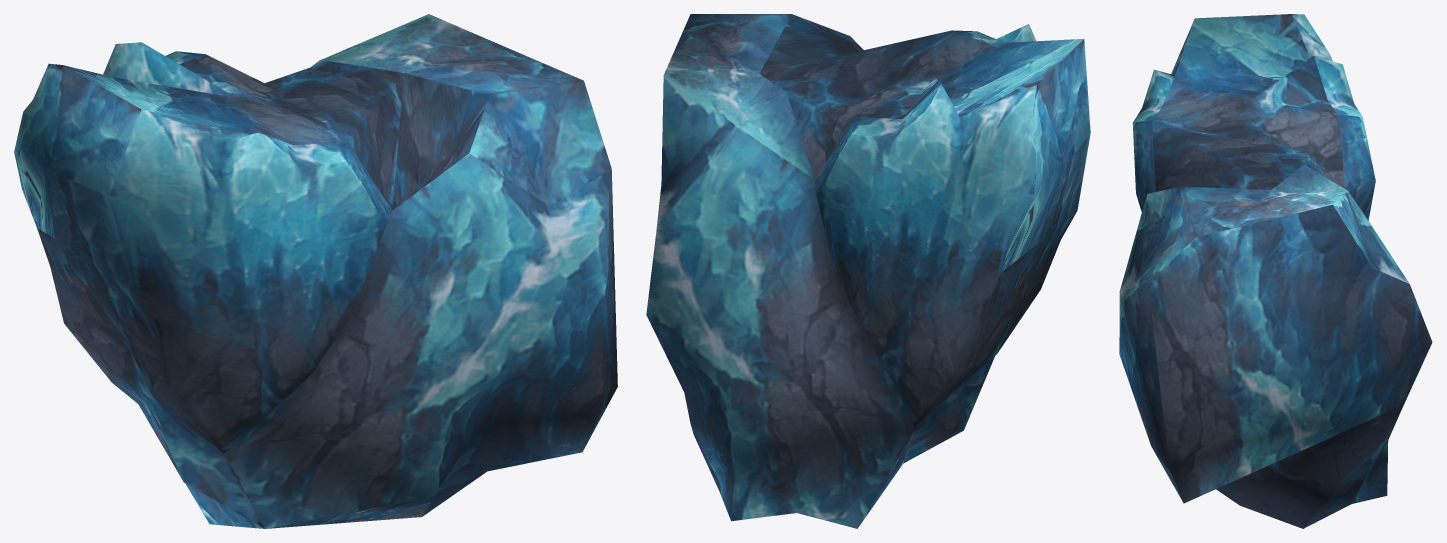
Rendered from bs_binshan_24.FBX.
The picture shows the model from 3 angles, left to right: view 1: azimuth 30°, elevation 25°; view 2: azimuth 150°, elevation 25°; view 3: azimuth 270°, elevation 25°; orthographic projection. The views are drawn at different scales.
Visible parts, largest first — view 1: bs_binshan_24; view 2: bs_binshan_24; view 3: bs_binshan_24.
Part boxes in pixels (x1,y1,x2,y2): bs_binshan_24: (14, 14, 617, 528); bs_binshan_24: (646, 14, 1090, 528); bs_binshan_24: (1119, 14, 1432, 528).
Bounding box in the file's own units: 1347 × 1391 × 993.
